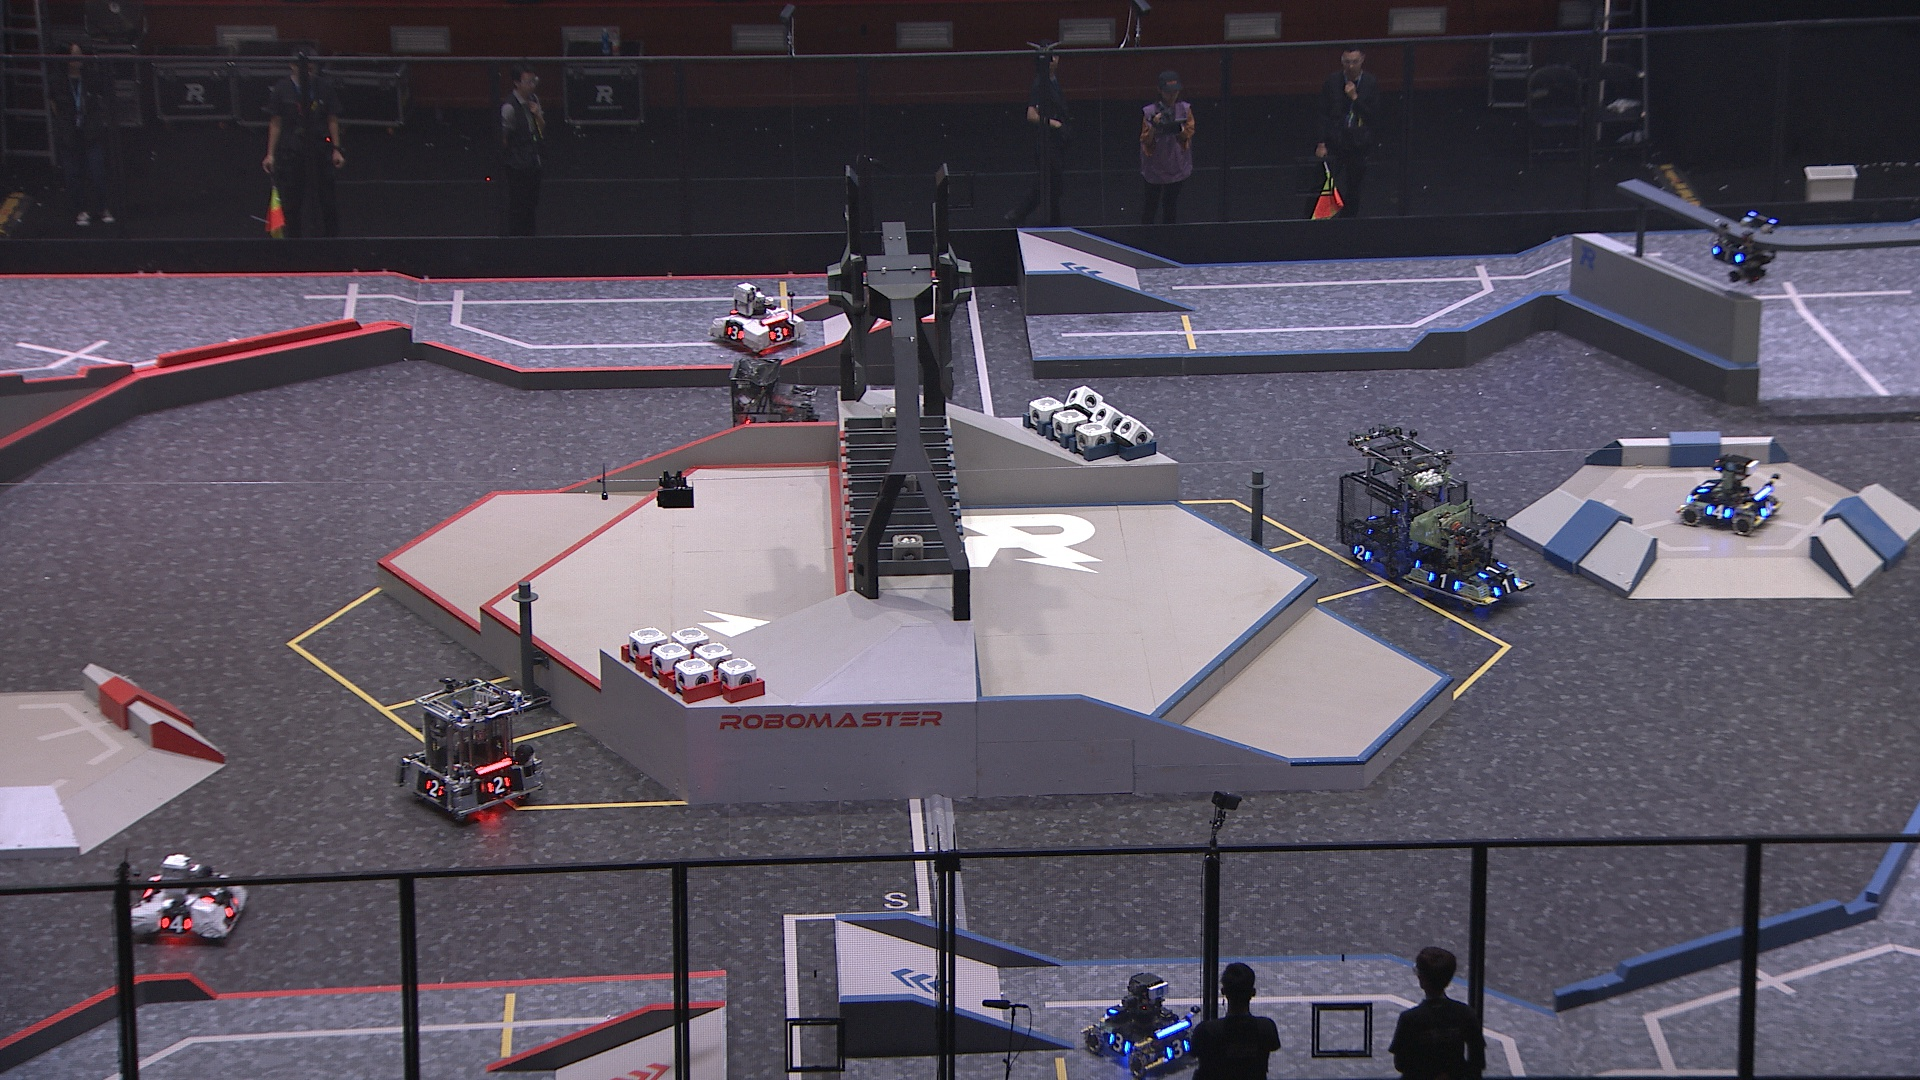armor: (1425, 570, 1462, 593), (161, 913, 193, 935), (1712, 244, 1745, 264), (1106, 1031, 1133, 1055), (1164, 1039, 1192, 1062), (1493, 578, 1522, 599), (1705, 502, 1735, 522), (487, 775, 513, 796), (1480, 560, 1509, 579), (199, 884, 225, 902), (423, 778, 446, 799), (1695, 479, 1721, 496), (1352, 543, 1375, 562), (223, 895, 243, 916), (724, 324, 746, 342), (767, 327, 793, 342), (1759, 498, 1776, 520)
car: (396, 676, 547, 822), (1335, 425, 1472, 574), (1404, 502, 1534, 618), (1079, 968, 1205, 1080), (727, 357, 839, 469), (127, 851, 251, 944), (1675, 456, 1785, 535), (711, 278, 804, 353)
watcher: (1709, 210, 1782, 285)
